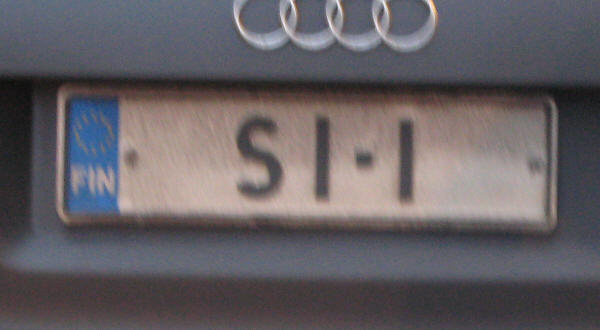license_plate: (60, 89, 556, 225)
